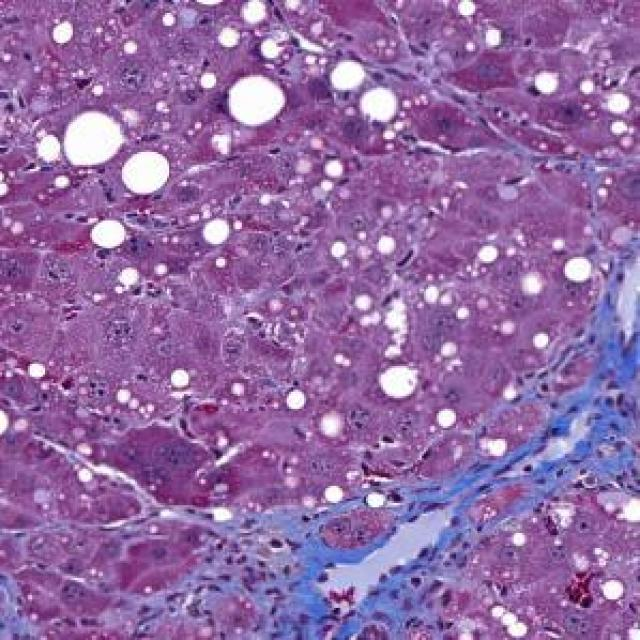fibrosis: (255, 499, 479, 629), (466, 366, 632, 499)
